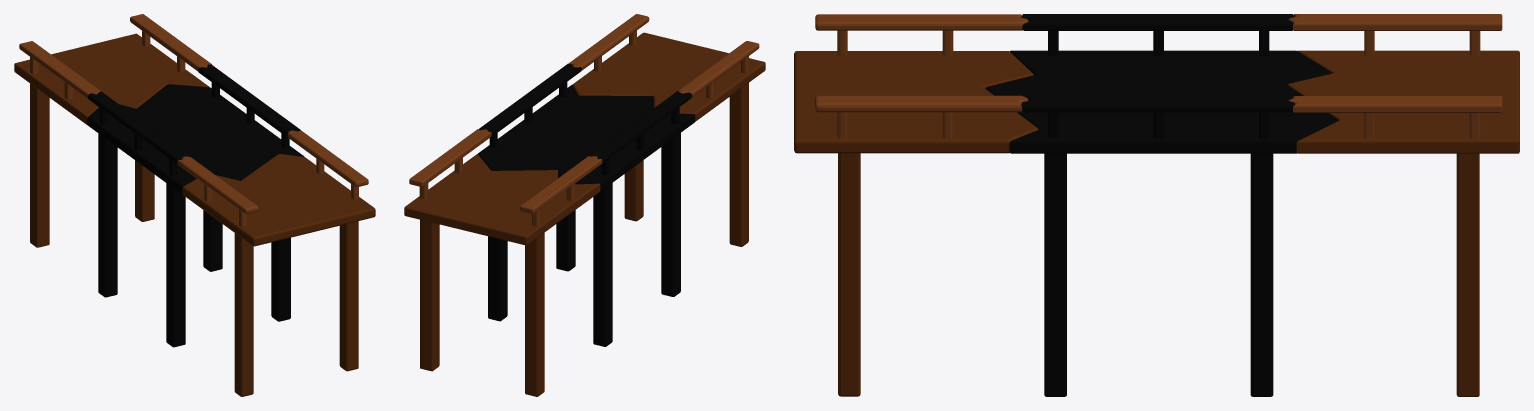
File: shadow_Bridge.fbx
3 views of the same model, side by side, from view 1: azimuth 30°, elevation 25°; view 2: azimuth 150°, elevation 25°; view 3: azimuth 270°, elevation 25° (orthographic). The views are drawn at different scales.
Parts seen in each view (by area): view 1: Cube.079, Cube.086, Cube.073; view 2: Cube.079, Cube.073, Cube.086; view 3: Cube.079, Cube.086, Cube.073.
Boxes of the visible parts, x1=… form: Cube.079: x1=87, y1=64, x2=304, y2=347; Cube.086: x1=177, y1=130, x2=375, y2=396; Cube.073: x1=14, y1=14, x2=211, y2=247; Cube.079: x1=478, y1=63, x2=695, y2=346; Cube.073: x1=404, y1=129, x2=602, y2=396; Cube.086: x1=569, y1=14, x2=765, y2=246; Cube.079: x1=985, y1=14, x2=1338, y2=396; Cube.086: x1=794, y1=14, x2=1038, y2=396; Cube.073: x1=1287, y1=14, x2=1519, y2=396.
Size of the model in its own units: 220 by 330 by 735.
